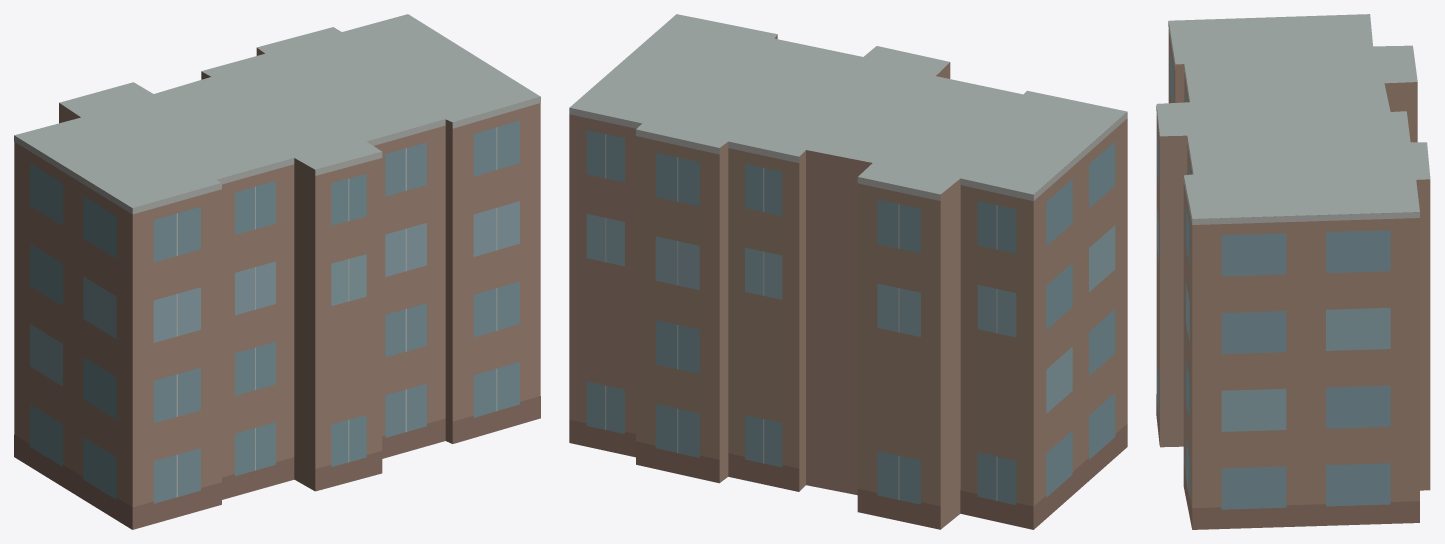
The model's file is survey-upis-33041032.glb.
3 renders of one model, left to right at view 1: azimuth 30°, elevation 25°; view 2: azimuth 150°, elevation 25°; view 3: azimuth 270°, elevation 25°, orthographic. The views are drawn at different scales.
Parts seen in each view (by area): view 1: survey-upis-33041032.tmp; view 2: survey-upis-33041032.tmp; view 3: survey-upis-33041032.tmp.
Part boxes in pixels (x1,y1,x2,y2): survey-upis-33041032.tmp: [14, 14, 540, 529]; survey-upis-33041032.tmp: [569, 14, 1127, 529]; survey-upis-33041032.tmp: [1156, 14, 1430, 529].
Size of the model in its own units: 17.68 by 12.5 by 9.99.
